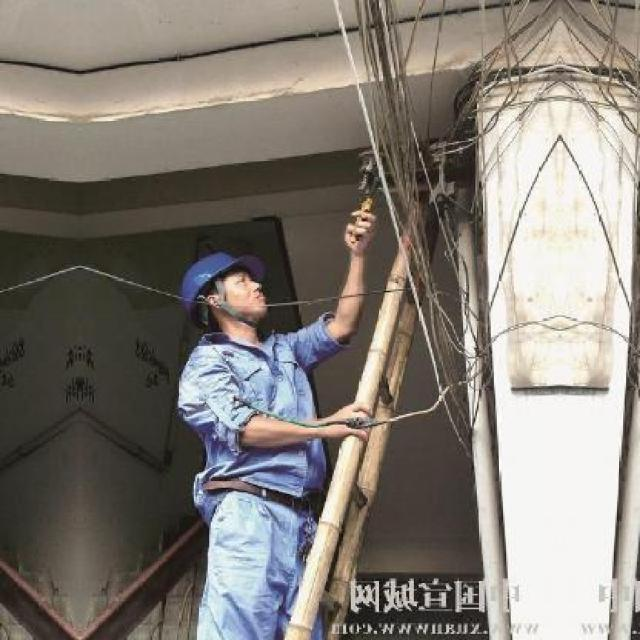safetyhelmet: (180, 245, 262, 332)
